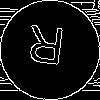R: (25, 25, 67, 74)
